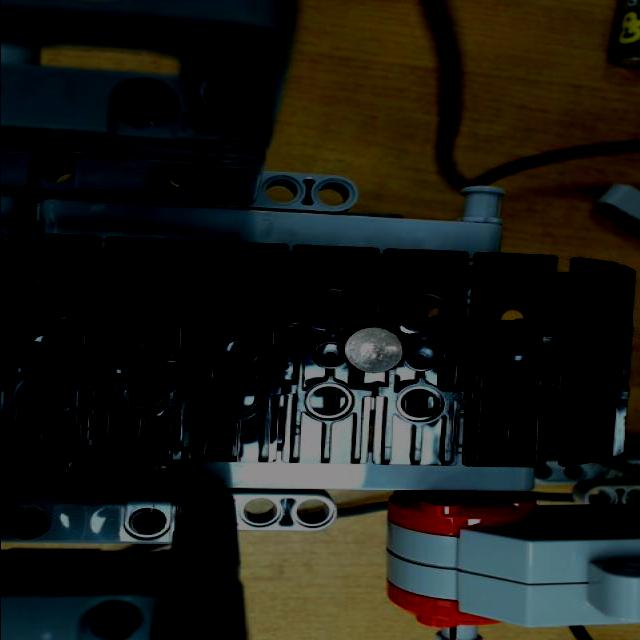COIN: (342, 316, 410, 376)
